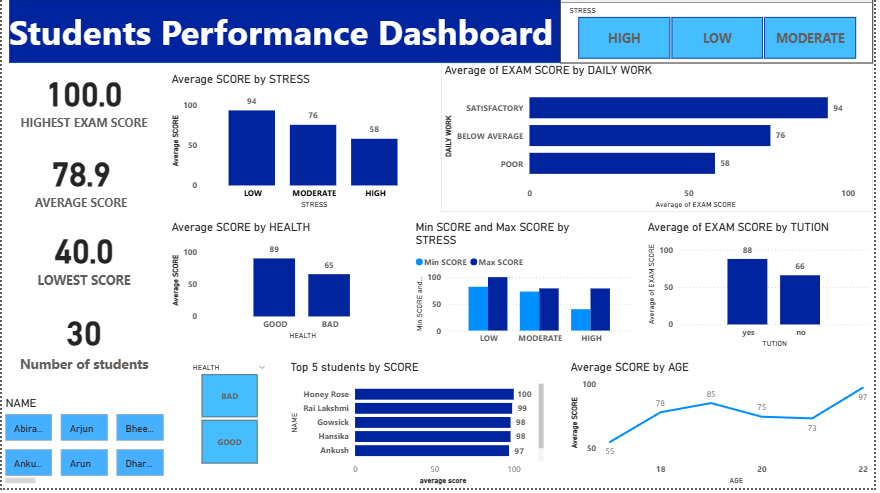

The page's visual inventory and layout, read from the dashboard file:
{"tool":"powerbi","page":{"name":"Performance dashboard","canvas":[1280,720],"ordinal":0},"visuals":[{"type":"shape","box":[10.1,0,1269.9,95.7],"z":0},{"type":"card","fields":{"Values":["Table13.EXAM SCORE"]},"box":[4.4,95.5,232.2,102.9],"z":1000},{"type":"card","fields":{"Values":["Table13.EXAM SCORE"]},"box":[0,211.6,232.2,105.8],"z":2000},{"type":"card","fields":{"Values":["Table13.EXAM SCORE"]},"box":[10.3,326.2,220.4,105.8],"z":3000},{"type":"clusteredColumnChart","fields":{"Y":["Table13.EXAM SCORE"],"Category":["Table13.STRESS"]},"box":[243.9,108.7,382,205.7],"z":4000},{"type":"slicer","fields":{"Values":["Table13.HEALTH"]},"box":[267.4,531.9,132.2,158.7],"z":5000},{"type":"clusteredBarChart","fields":{"Category":["Table13.DAILY WORK"],"Y":["Table13.EXAM SCORE"]},"box":[645.1,95.5,634.8,218.9],"z":6000},{"type":"lineChart","fields":{"Category":["Table13.AGE"],"Y":["Table13.EXAM SCORE"]},"box":[830.2,531.9,449.6,188.1],"z":7000},{"type":"clusteredColumnChart","fields":{"Y":["Table13.EXAM SCORE","Table13.EXAM SCORE"],"Category":["Table13.STRESS"]},"box":[602.4,326.2,329.1,192.5],"z":8000},{"type":"clusteredBarChart","title":"Top 5 students by SCORE","fields":{"Y":["Table13.EXAM SCORE"],"Category":["Table13.NAME"]},"box":[418.8,531.9,382,188.1],"z":9000},{"type":"slicer","fields":{"Values":["Table13.STRESS"]},"box":[819.9,0,459.9,95.5],"z":10000},{"type":"clusteredColumnChart","fields":{"Y":["Table13.EXAM SCORE"],"Category":["Table13.HEALTH"]},"box":[243.9,326.2,348.2,180.7],"z":11000},{"type":"card","fields":{"Values":["Table13.NAME"]},"box":[10.3,443.8,220.4,113.1],"z":12000},{"type":"clusteredColumnChart","fields":{"Category":["Table13.TUTION"],"Y":["Table13.EXAM SCORE"]},"box":[943.3,326.2,336.5,192.5],"z":13000},{"type":"advancedSlicerVisual","fields":{"Values":["Table13.NAME"]},"box":[0,584.8,243.9,135.2],"z":14000}]}

Visuals, with their boxes in screenshot pixels (x1, y1, x2, y2), scaled from the page's 1280x720 canvas onto the 880x493 screenshot:
shape: bbox=[7, 0, 879, 66]
card - Table13.EXAM SCORE: bbox=[3, 65, 163, 136]
card - Table13.EXAM SCORE: bbox=[0, 145, 160, 217]
card - Table13.EXAM SCORE: bbox=[7, 223, 159, 296]
clusteredColumnChart - Table13.EXAM SCORE x Table13.STRESS: bbox=[168, 74, 430, 215]
slicer - Table13.HEALTH: bbox=[184, 364, 275, 473]
clusteredBarChart - Table13.DAILY WORK x Table13.EXAM SCORE: bbox=[444, 65, 879, 215]
lineChart - Table13.AGE x Table13.EXAM SCORE: bbox=[571, 364, 879, 492]
clusteredColumnChart - Table13.EXAM SCORE x Table13.EXAM SCORE: bbox=[414, 223, 640, 355]
"Top 5 students by SCORE" clusteredBarChart: bbox=[288, 364, 551, 492]
slicer - Table13.STRESS: bbox=[564, 0, 879, 65]
clusteredColumnChart - Table13.EXAM SCORE x Table13.HEALTH: bbox=[168, 223, 407, 347]
card - Table13.NAME: bbox=[7, 304, 159, 381]
clusteredColumnChart - Table13.TUTION x Table13.EXAM SCORE: bbox=[649, 223, 879, 355]
advancedSlicerVisual - Table13.NAME: bbox=[0, 400, 168, 492]
